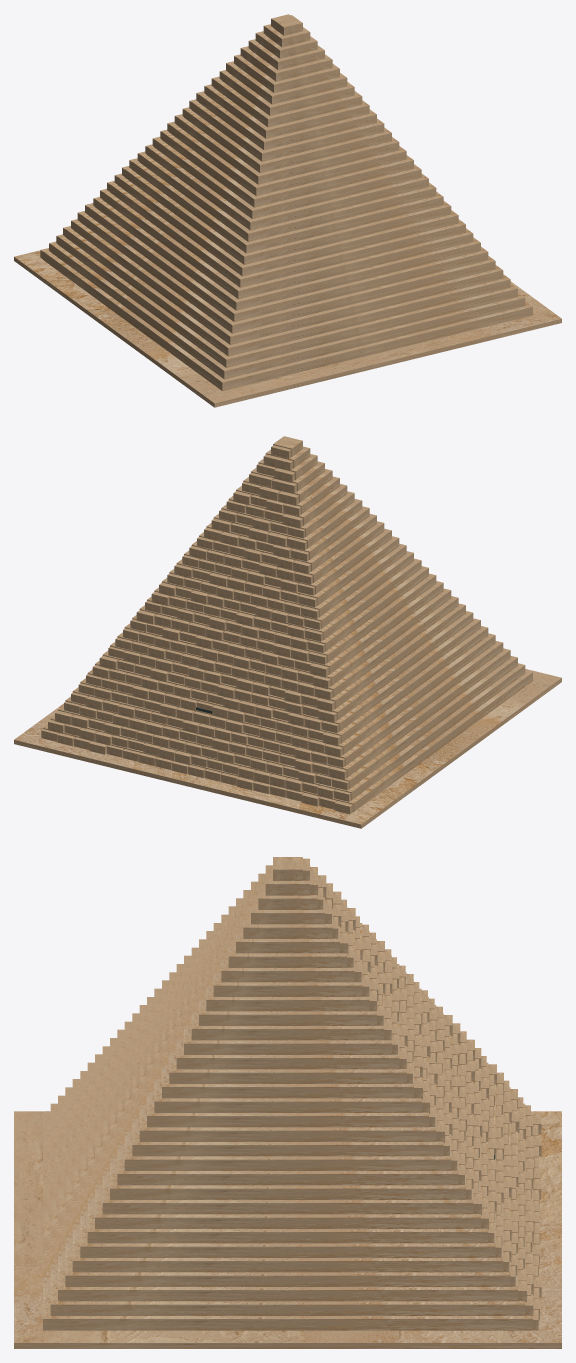
3 views of the same model, one above another, from view 1: azimuth 30°, elevation 25°; view 2: azimuth 150°, elevation 25°; view 3: azimuth 270°, elevation 25° (orthographic). The views are drawn at different scales.
Parts seen in each view (by area): view 1: Cube, Cube.001, Cube.021, Cube.041, Cube.060, Cube.078, Cube.096, Cube.113, Cube.130, Cube.146, Cube.161, Cube.176 (+20 smaller); view 2: Cube, Cube.021, Cube.001, Cube.041, Cube.060, Cube.078, Cube.096, Cube.113, Cube.130, Cube.146, Cube.161, Cube.176 (+17 smaller); view 3: Cube, Cube.001, Cube.021, Cube.041, Cube.060, Cube.078, Cube.096, Cube.113, Cube.130, Cube.146, Cube.161, Cube.176 (+21 smaller).
Boxes of the visible parts, left/top/right/bottom form: Cube: left=14, top=250, right=561, bottom=407; Cube.001: left=43, top=250, right=532, bottom=390; Cube.021: left=50, top=242, right=525, bottom=379; Cube.041: left=58, top=235, right=517, bottom=367; Cube.060: left=65, top=227, right=510, bottom=356; Cube.078: left=72, top=220, right=503, bottom=344; Cube.096: left=80, top=213, right=495, bottom=333; Cube.113: left=87, top=205, right=488, bottom=321; Cube.130: left=95, top=198, right=480, bottom=310; Cube.146: left=102, top=190, right=473, bottom=299; Cube.161: left=110, top=183, right=465, bottom=287; Cube.176: left=117, top=175, right=458, bottom=276; Cube: left=14, top=669, right=561, bottom=828; Cube.021: left=50, top=663, right=525, bottom=800; Cube.001: left=43, top=670, right=532, bottom=811; Cube.041: left=58, top=656, right=517, bottom=788; Cube.060: left=65, top=648, right=510, bottom=777; Cube.078: left=72, top=641, right=503, bottom=765; Cube.096: left=80, top=633, right=495, bottom=754; Cube.113: left=87, top=626, right=488, bottom=743; Cube.130: left=95, top=618, right=480, bottom=731; Cube.146: left=102, top=611, right=473, bottom=720; Cube.161: left=110, top=603, right=465, bottom=708; Cube.176: left=117, top=596, right=458, bottom=697; Cube: left=14, top=1111, right=561, bottom=1348; Cube.001: left=43, top=1112, right=532, bottom=1330; Cube.021: left=50, top=1103, right=525, bottom=1315; Cube.041: left=58, top=1095, right=517, bottom=1301; Cube.060: left=65, top=1087, right=510, bottom=1286; Cube.078: left=72, top=1079, right=503, bottom=1272; Cube.096: left=80, top=1071, right=495, bottom=1257; Cube.113: left=87, top=1062, right=488, bottom=1243; Cube.130: left=95, top=1054, right=480, bottom=1228; Cube.146: left=102, top=1046, right=473, bottom=1214; Cube.161: left=110, top=1038, right=465, bottom=1199; Cube.176: left=117, top=1029, right=458, bottom=1185.
Size of the model in its own units: 1.88 by 1.4 by 1.88.
Materials: 2 (1 with a texture image).
